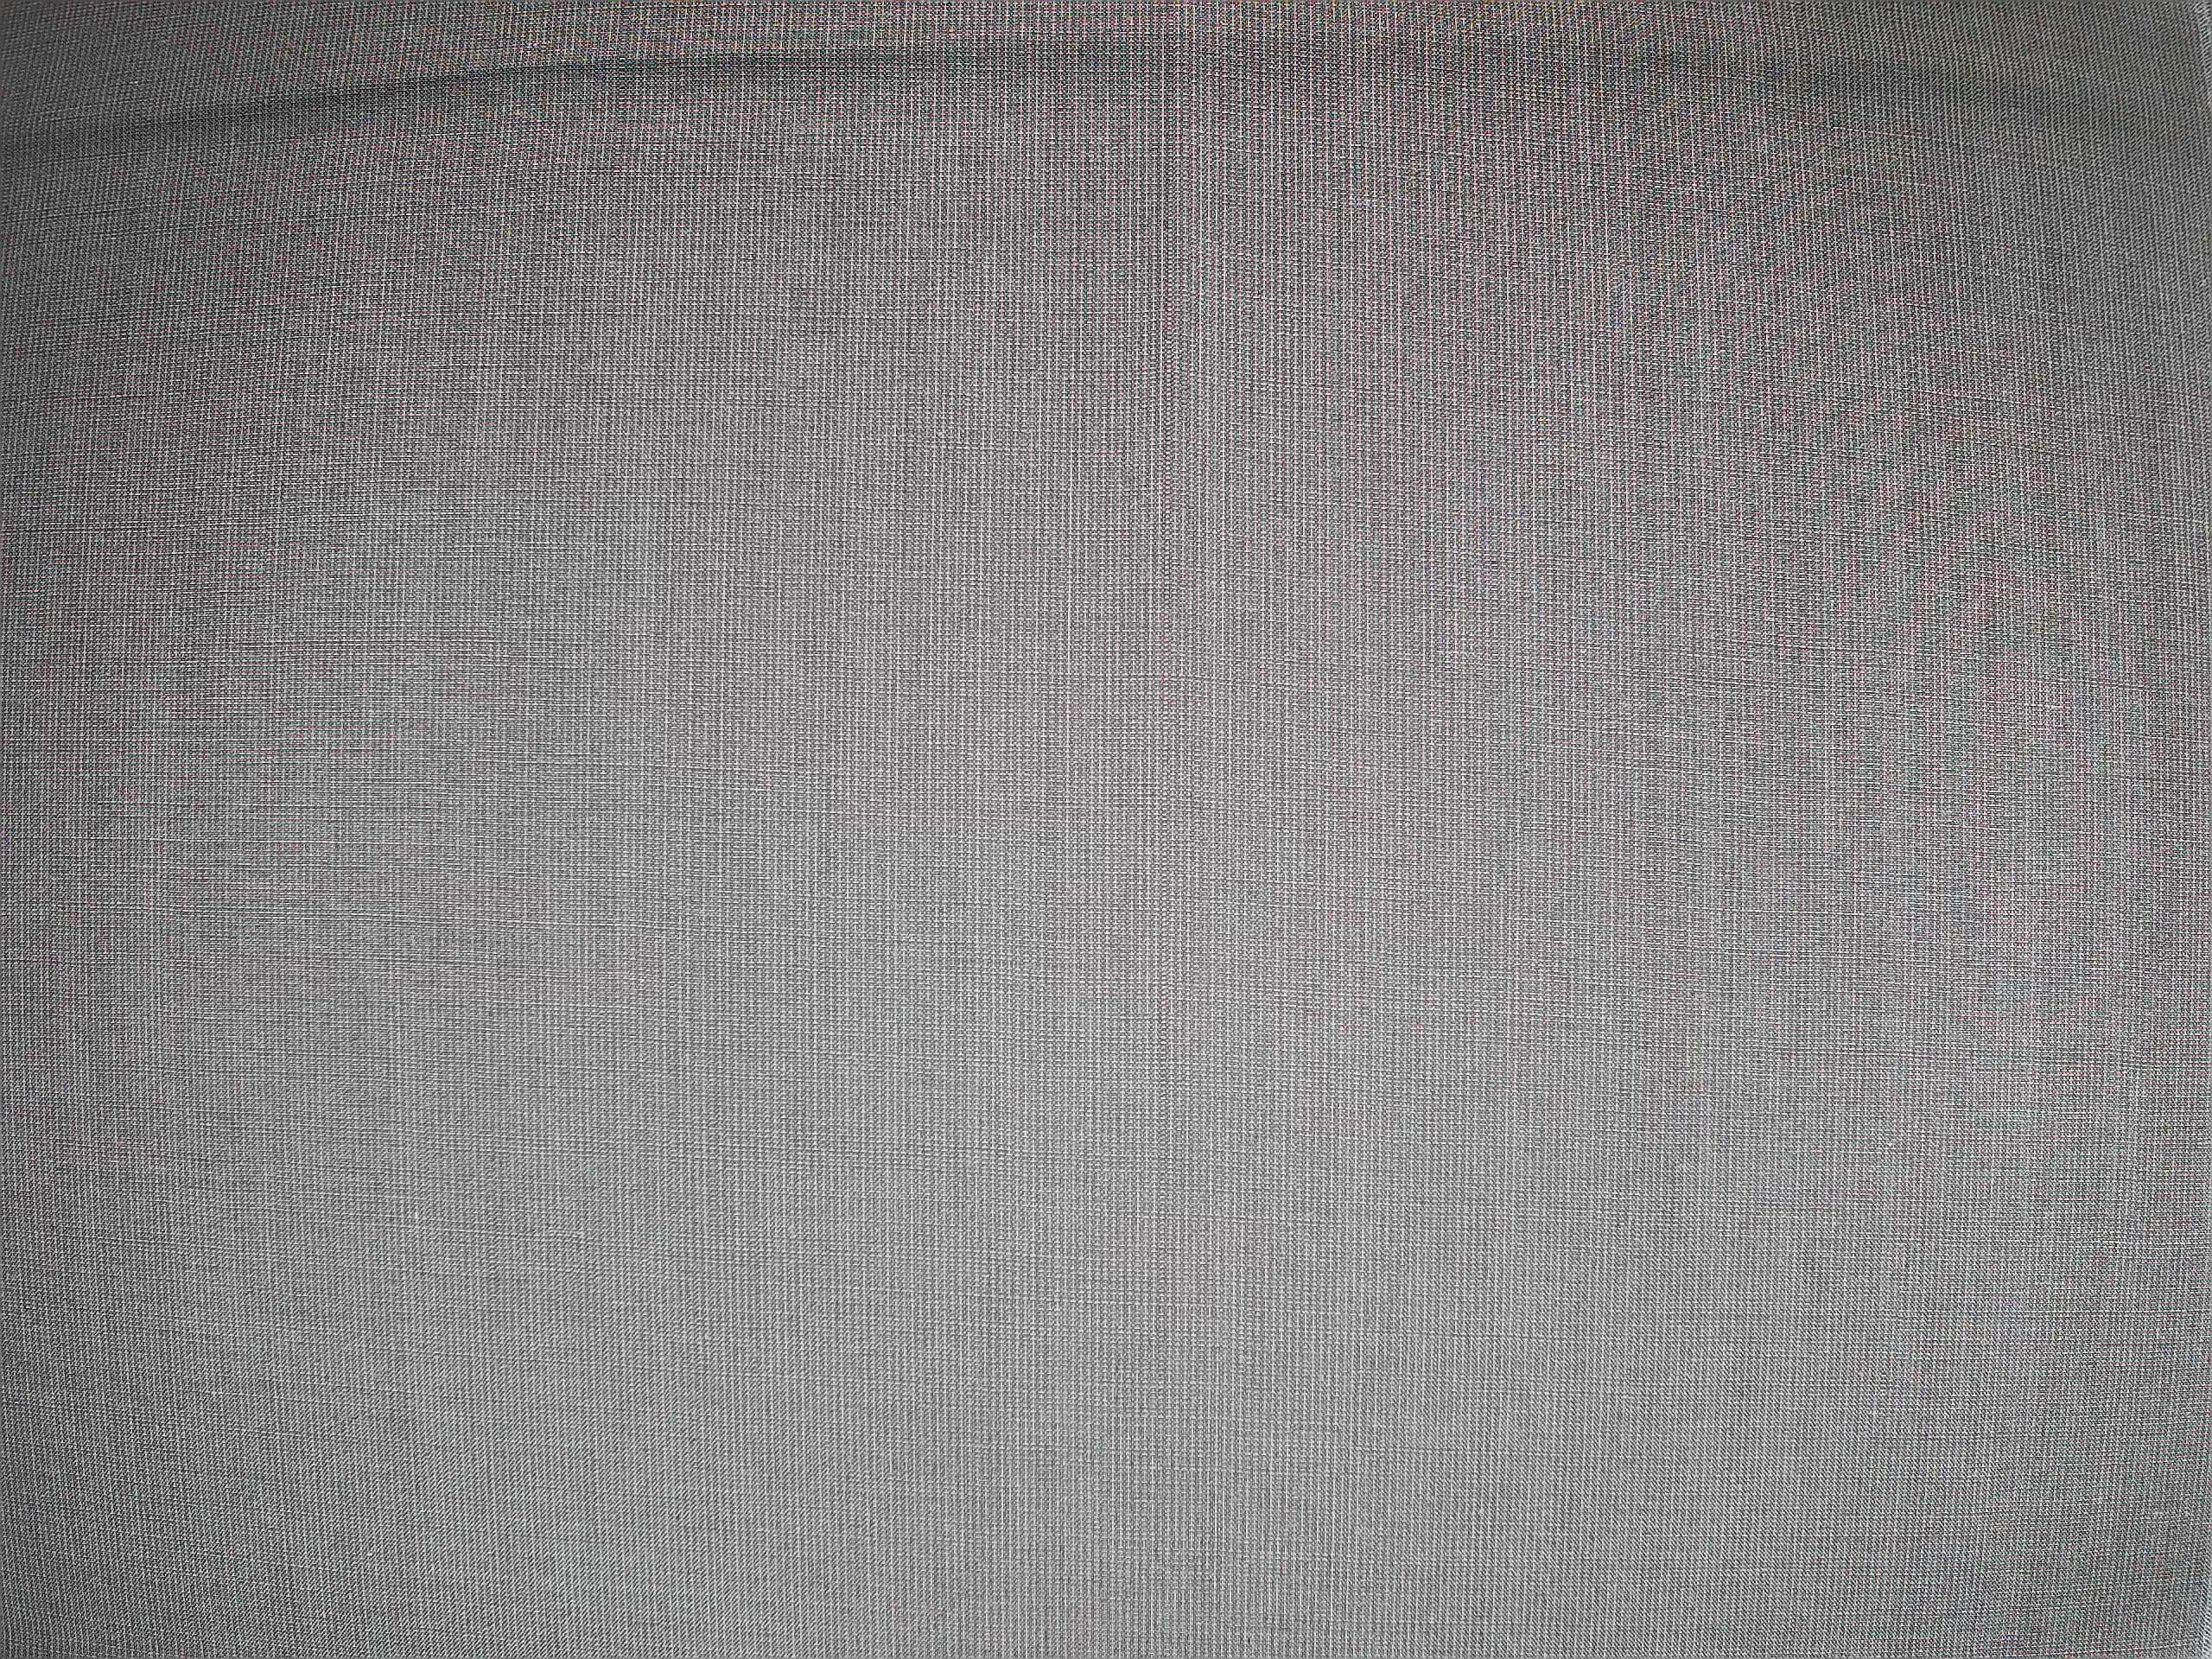hanging-warp: (1148, 3, 1188, 1342)
